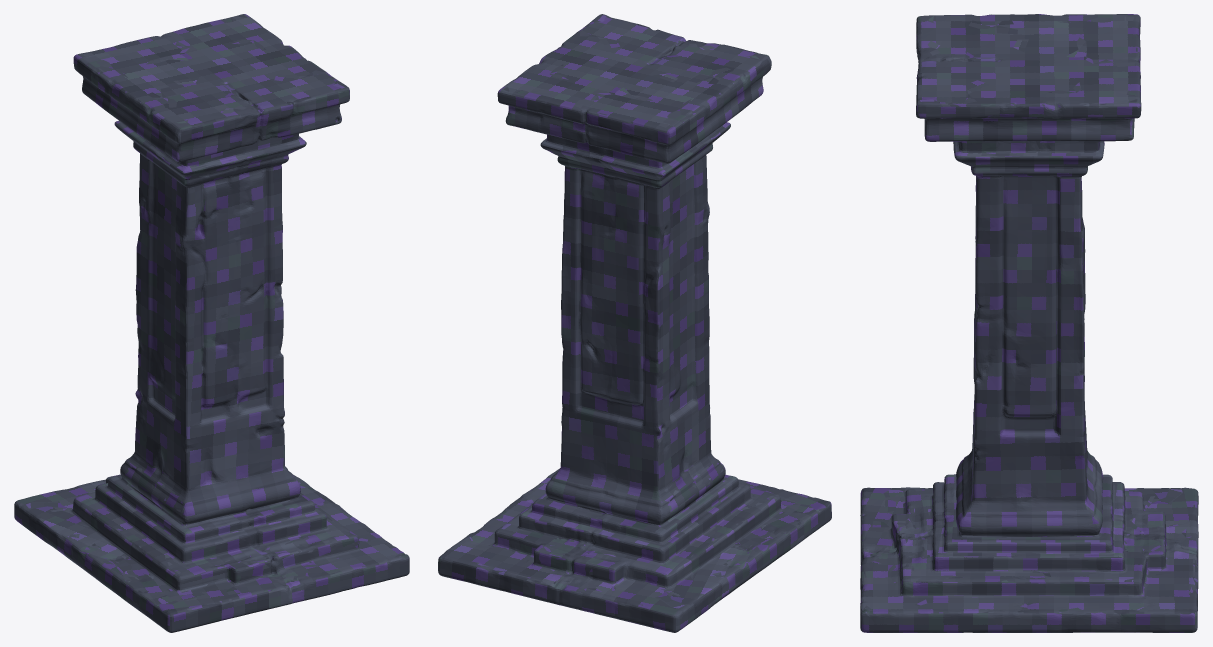
File: weathered-monolith-pillar-generated-2026-04-19T23-48-08-244Z.glb
3 views of the same model, side by side, from view 1: azimuth 30°, elevation 25°; view 2: azimuth 150°, elevation 25°; view 3: azimuth 270°, elevation 25° (orthographic). The views are drawn at different scales.
Visible parts, largest first — view 1: temp_mesh.ply; view 2: temp_mesh.ply; view 3: temp_mesh.ply.
Part boxes in pixels (bbox=[...]): temp_mesh.ply: bbox=[14, 14, 409, 632]; temp_mesh.ply: bbox=[438, 14, 831, 632]; temp_mesh.ply: bbox=[860, 14, 1198, 632].
Size of the model in its own units: 1.05 by 1.97 by 1.18.
Materials: 1 (1 with a texture image).
